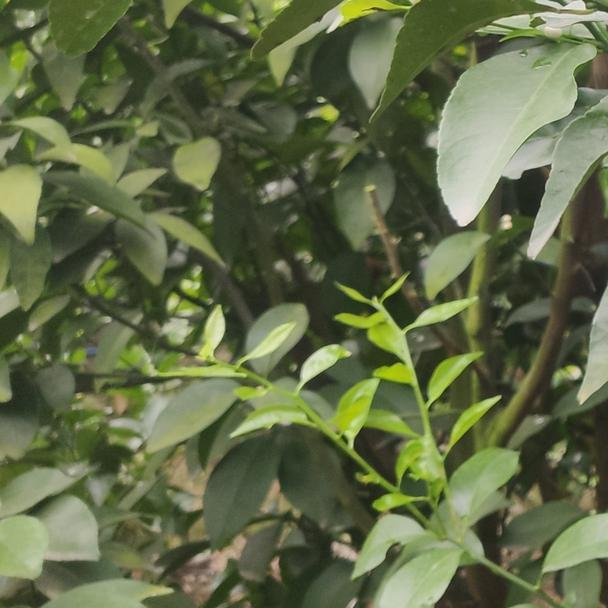shoot: (188, 336, 385, 497), (357, 273, 481, 479)
